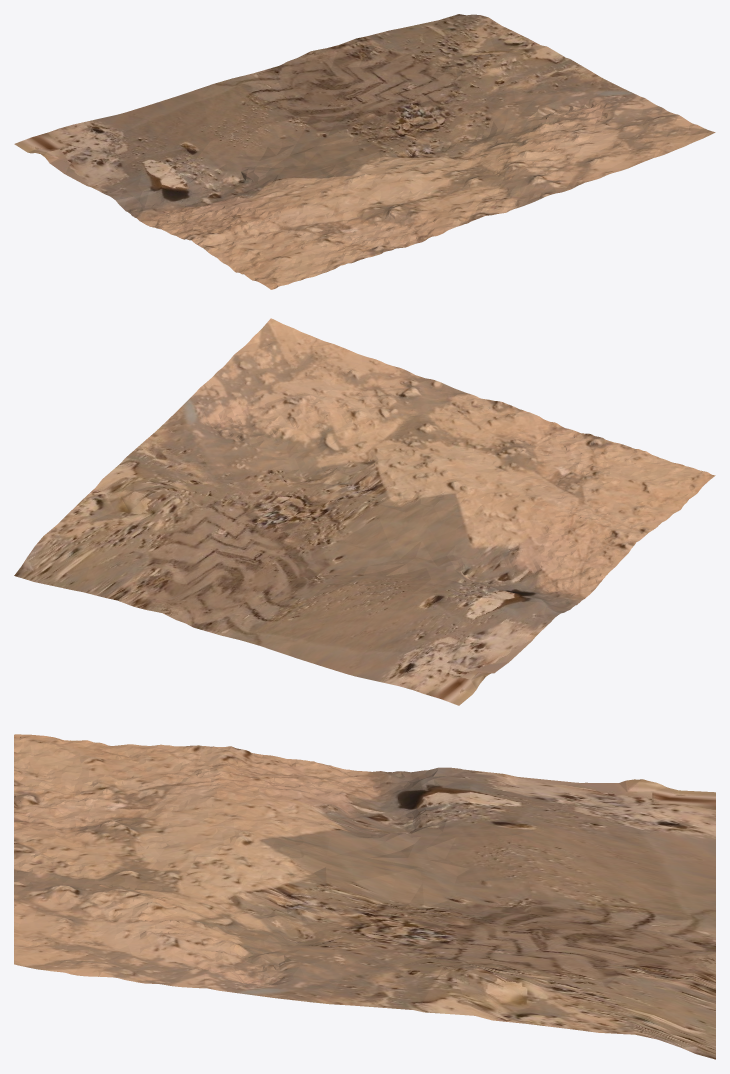
3 renders of one model, top to bottom at view 1: azimuth 30°, elevation 25°; view 2: azimuth 150°, elevation 25°; view 3: azimuth 270°, elevation 25°, orthographic. The views are drawn at different scales.
Size of the model in its own units: 1.04 by 0.2044 by 1.04.
Materials: 2 (2 with a texture image).
